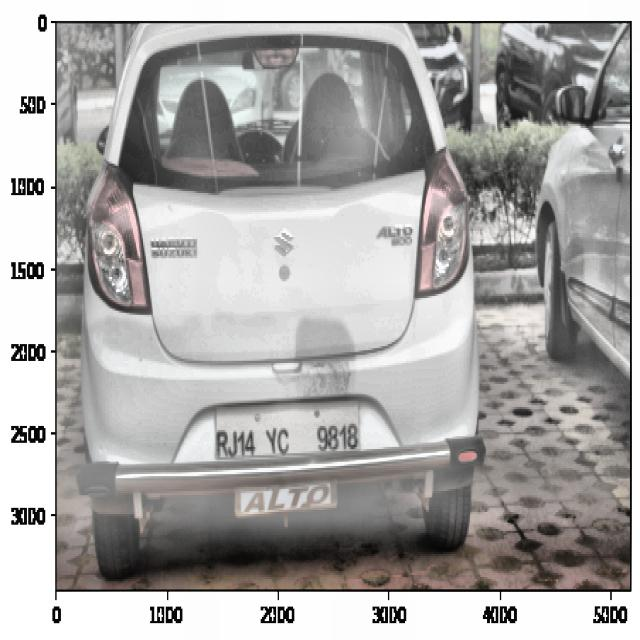license_plate: (211, 412, 361, 463)
